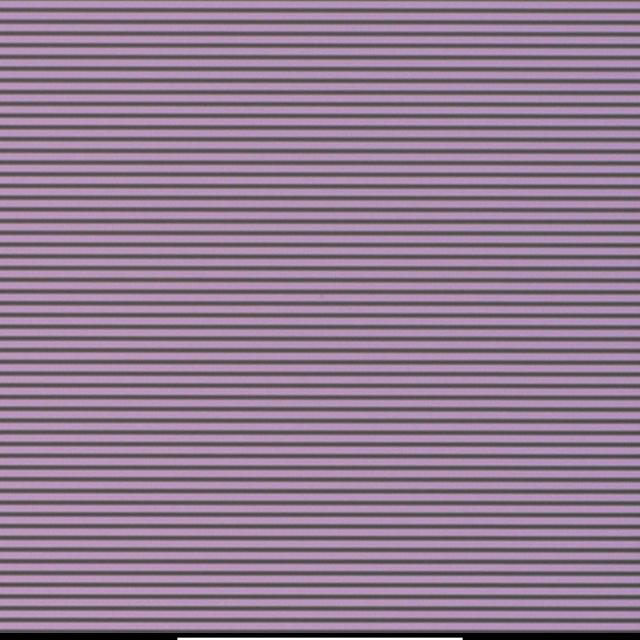nonvisual: (317, 291, 328, 302)
